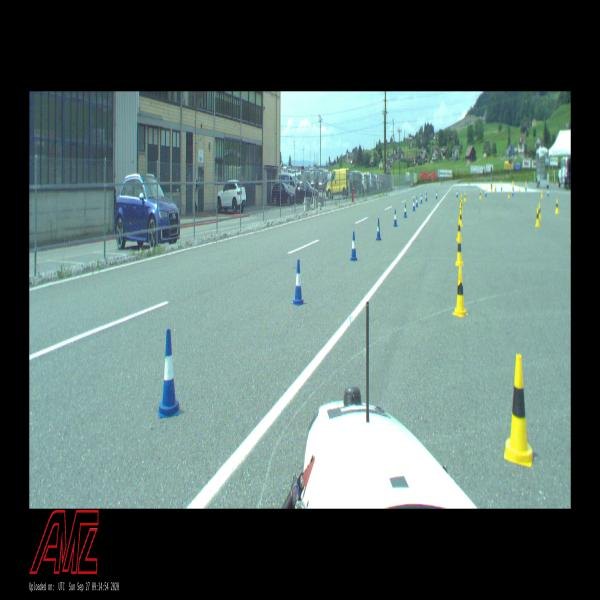blue_cone: (159, 330, 179, 415), (292, 261, 304, 305), (350, 232, 358, 260), (376, 220, 381, 241), (394, 209, 398, 227), (404, 203, 407, 218), (412, 200, 415, 211), (420, 194, 423, 204), (425, 192, 428, 202), (416, 196, 418, 208), (456, 188, 458, 198), (436, 190, 438, 199)
yellow_cone: (505, 354, 532, 464), (453, 269, 468, 317), (456, 232, 463, 266), (456, 220, 462, 240), (535, 208, 540, 227), (459, 210, 463, 227), (555, 199, 559, 213), (539, 203, 541, 218), (459, 198, 462, 208), (479, 190, 482, 199), (460, 201, 462, 212), (464, 192, 466, 202), (461, 194, 462, 203)
